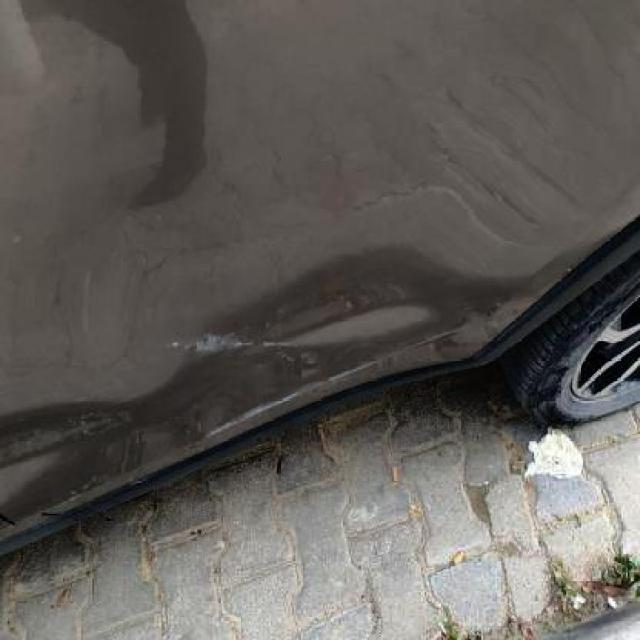car damage: (152, 234, 526, 456), (38, 0, 213, 202), (0, 382, 196, 544), (73, 241, 212, 405)
